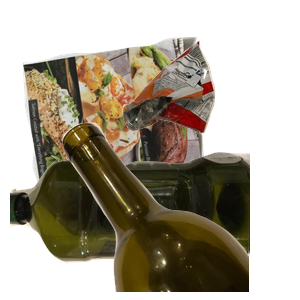glass: (60, 120, 300, 300)
paper: (20, 34, 221, 214)
plastic: (10, 149, 250, 300)
trash: (120, 38, 300, 164)
